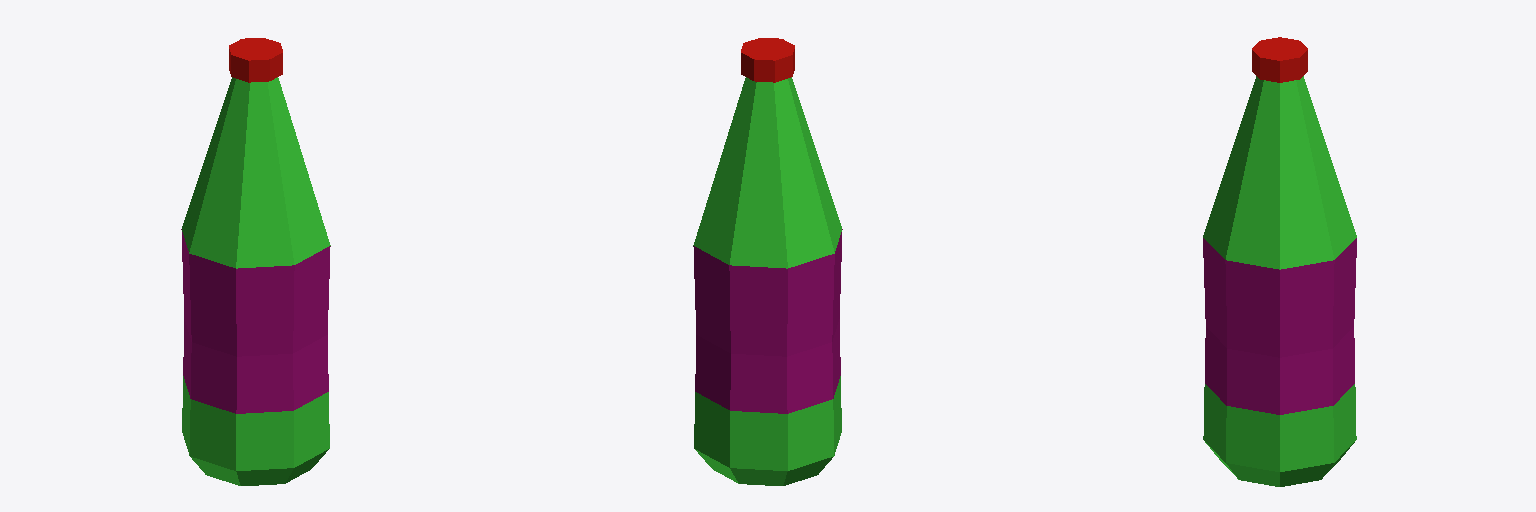
The model's file is prop_flask1_mesh_01_v1.glb.obj.
The picture shows the model from 3 angles: view 1: azimuth 30°, elevation 25°; view 2: azimuth 150°, elevation 25°; view 3: azimuth 270°, elevation 25°; orthographic projection.
Visible parts, largest first — view 1: Flask; view 2: Flask; view 3: Flask.
Part boxes in pixels (x1,y1,x2,y2): Flask: (181, 38, 330, 485); Flask: (693, 38, 842, 485); Flask: (1203, 37, 1356, 486).
Bounding box in the file's own units: 0.7302 × 2.16 × 0.7302.